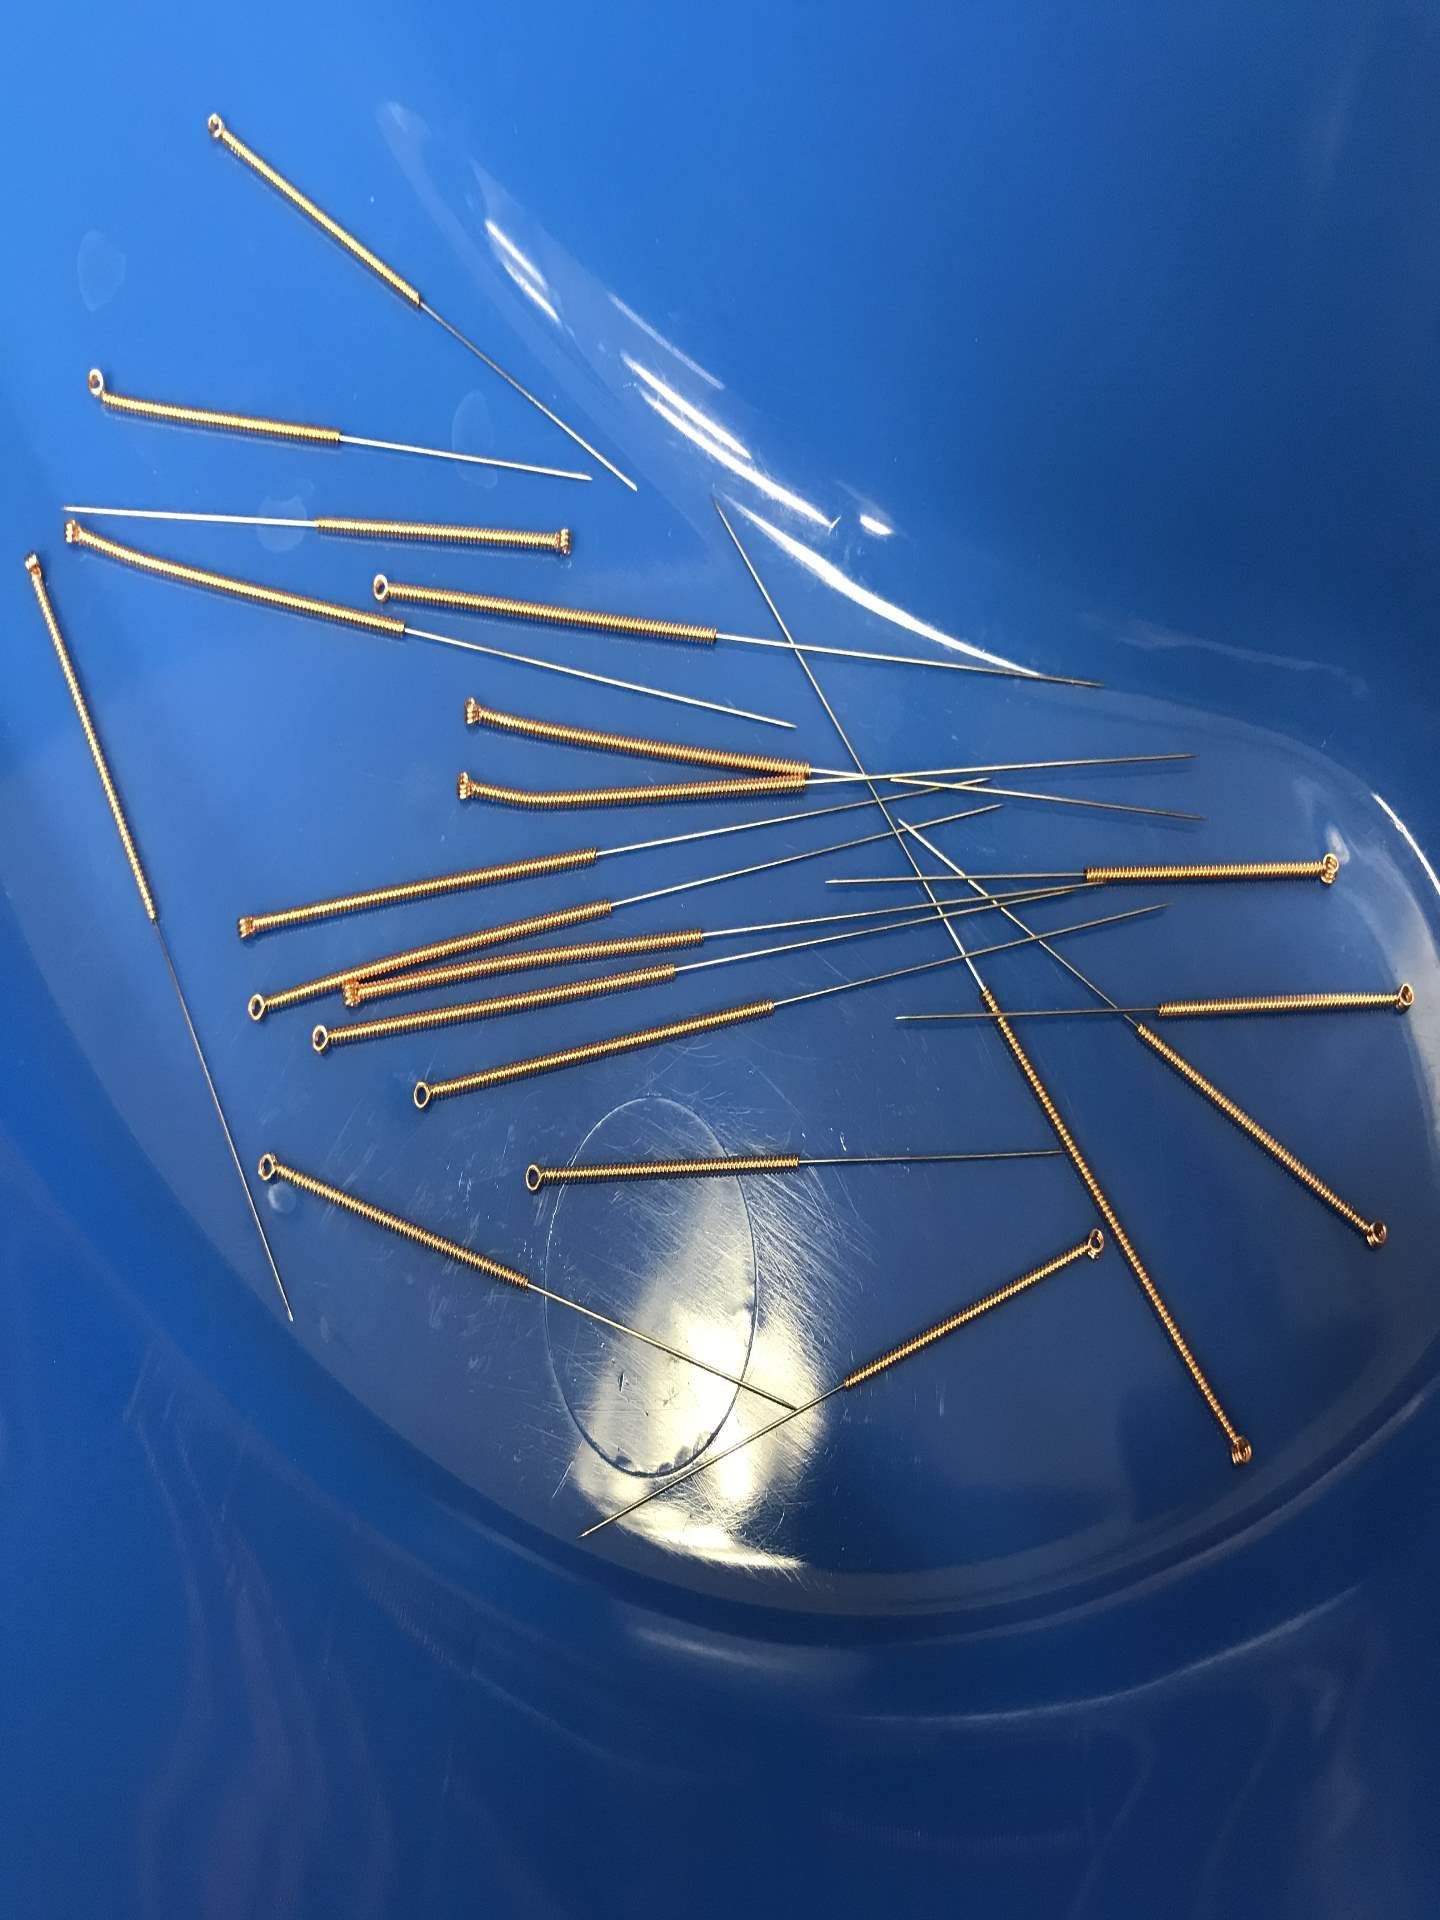needle: (1215, 1420, 1262, 1482), (1346, 1205, 1398, 1259), (442, 759, 492, 813), (451, 688, 501, 739), (401, 1069, 449, 1120), (534, 517, 584, 565), (513, 1154, 560, 1205), (296, 1013, 343, 1064), (225, 901, 272, 952), (360, 562, 411, 609), (250, 1141, 293, 1196), (1302, 842, 1349, 890), (234, 980, 280, 1030), (76, 363, 118, 416), (1068, 1222, 1113, 1268), (51, 513, 98, 556), (1381, 974, 1423, 1020), (331, 975, 380, 1016), (197, 101, 236, 151), (14, 541, 50, 591)
